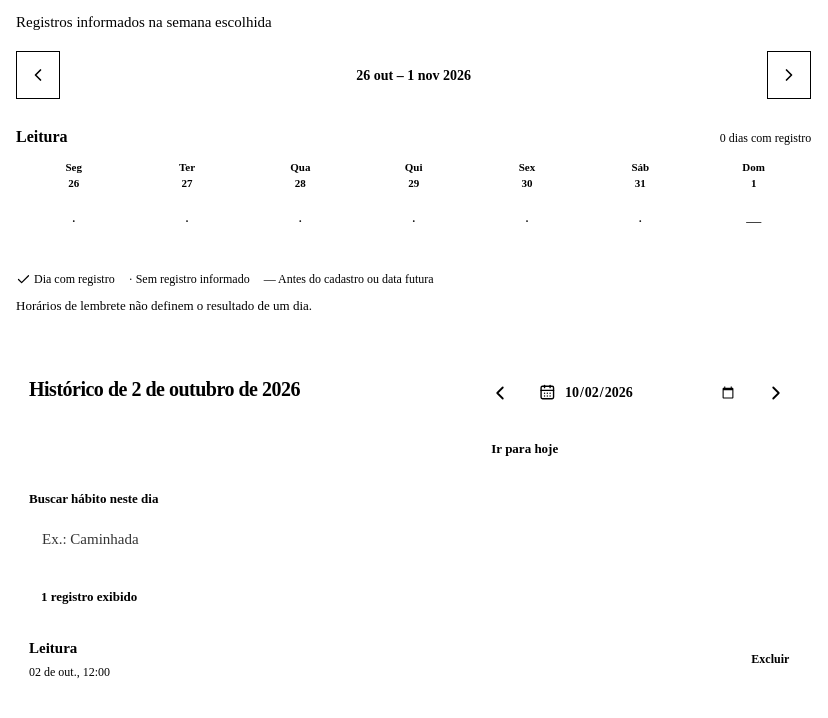
Scenario: limpeza experimental da busca vazia no histórico › mantém o controle sem ação junto ao estado vazio
(page scrolled)
Type "outro" into the search field labelled "Buscar hábito neste dia" at (414, 539), box [29,515,798,563]
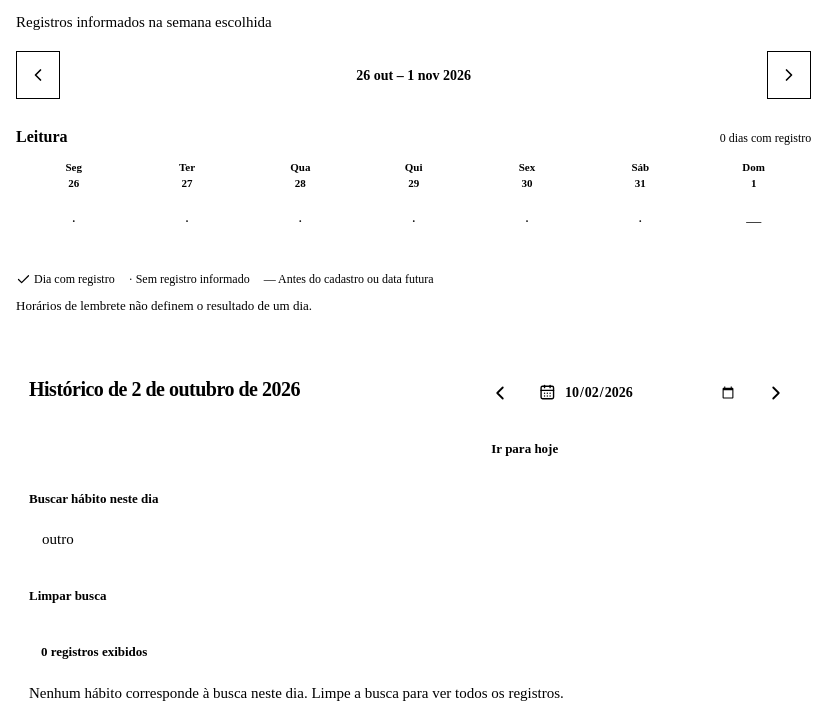
Expected: the text "Nenhum hábito corresponde à busca" is shown, [29,684,564,700]
